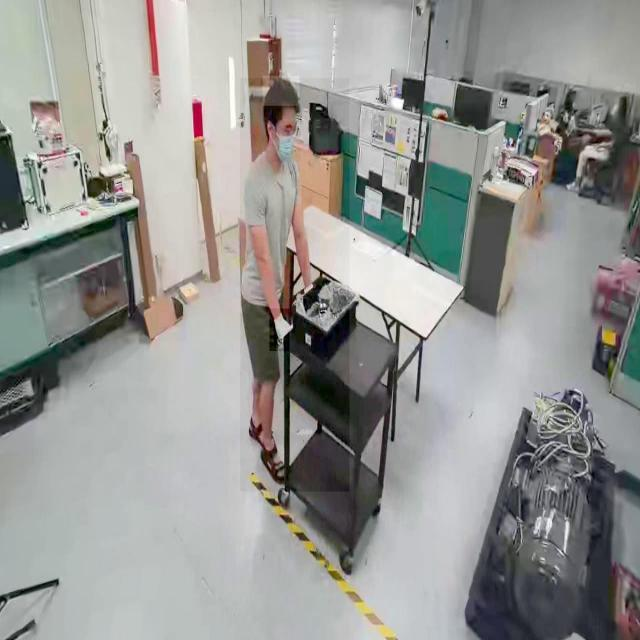gloves: (270, 308, 290, 352)
